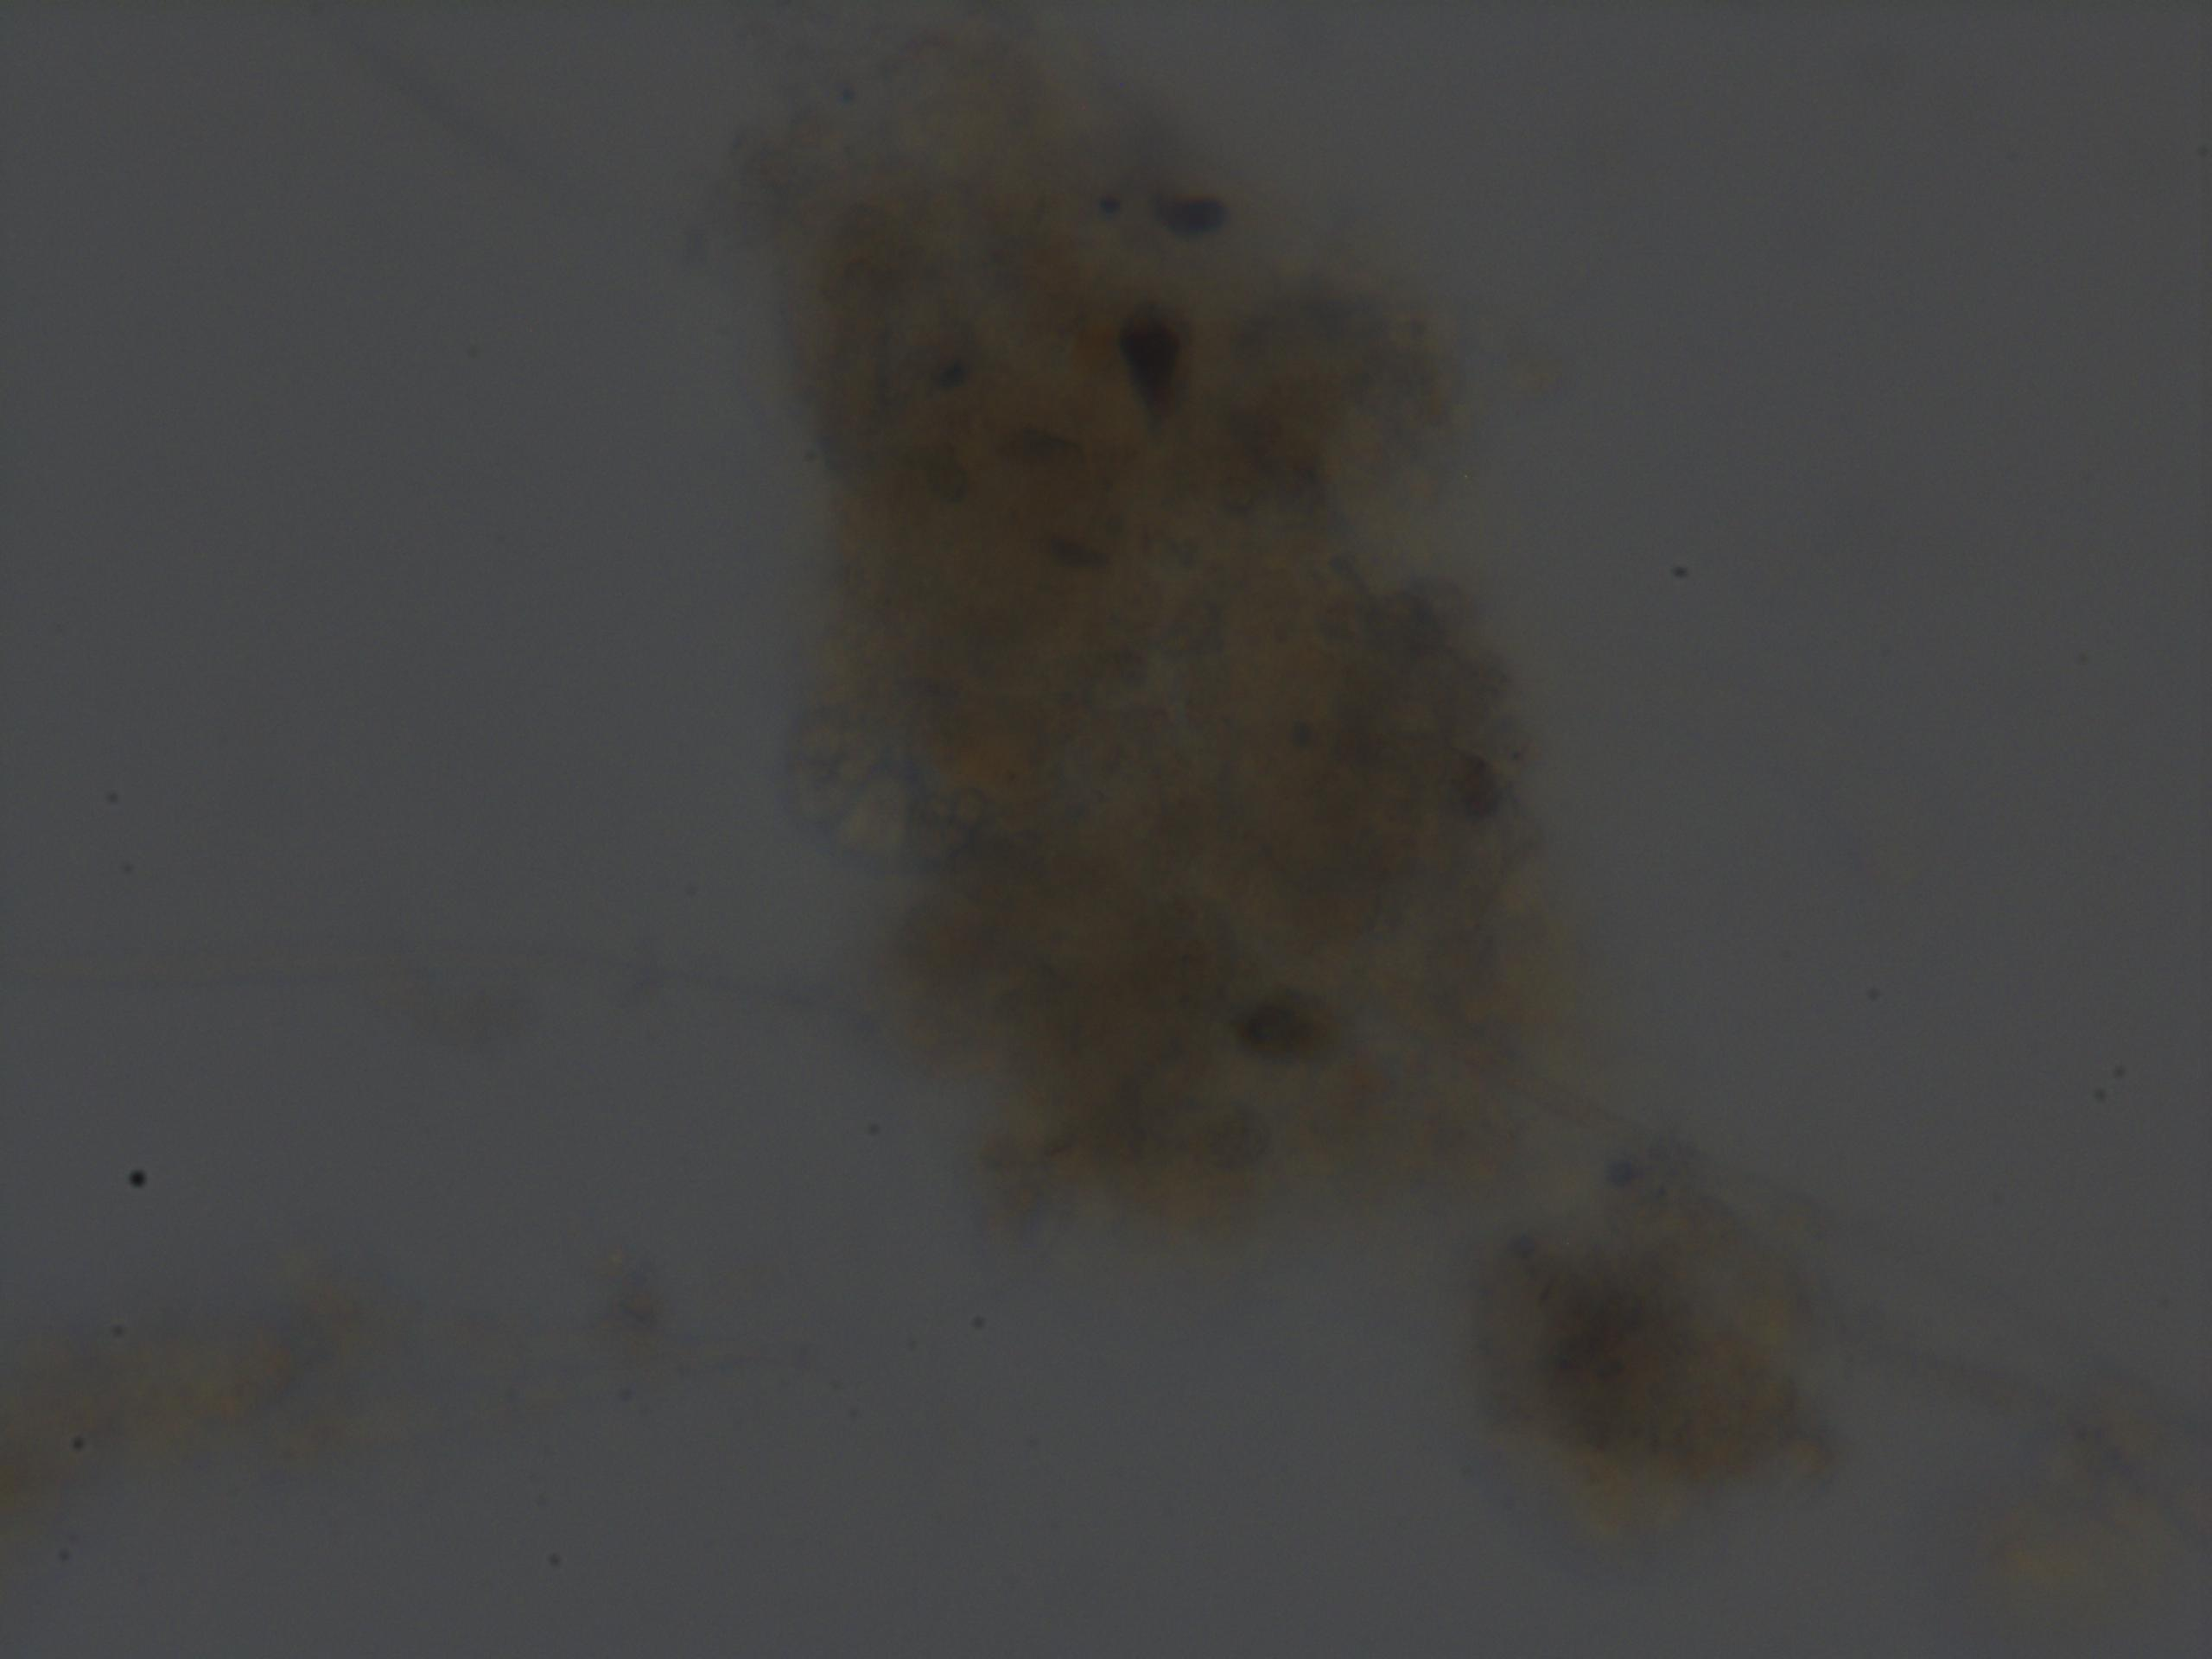spherical_floc: (735, 75, 1569, 1236)
